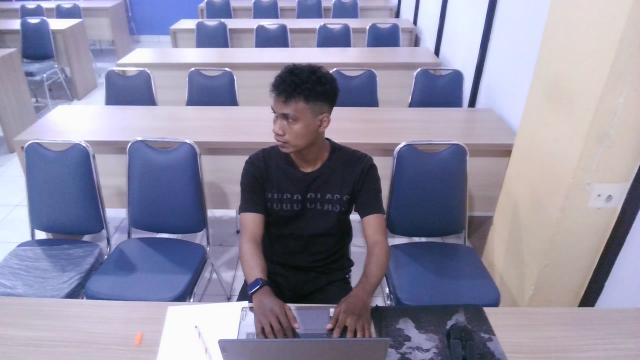Looking_Around: (226, 52, 397, 222)
